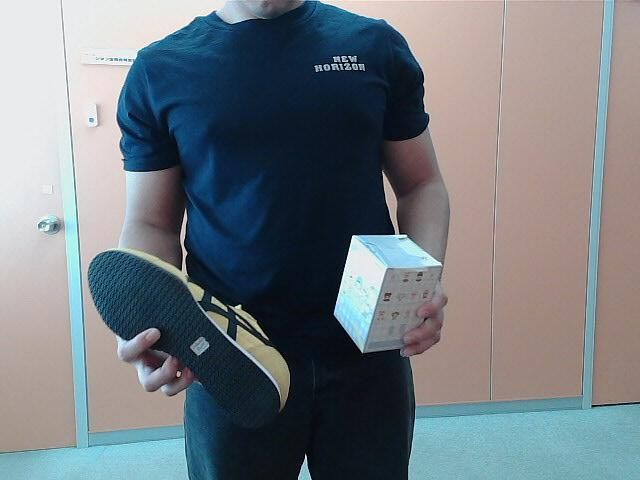Blind_box: (334, 232, 448, 356)
Shoes: (85, 248, 295, 426)
